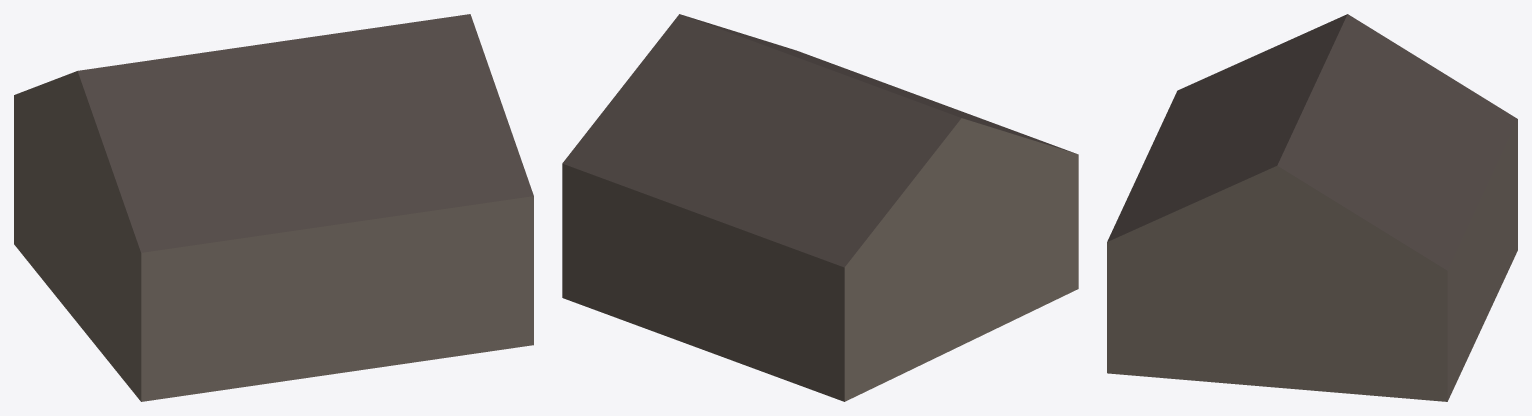
The picture shows the model from 3 angles, left to right: view 1: azimuth 30°, elevation 25°; view 2: azimuth 150°, elevation 25°; view 3: azimuth 270°, elevation 25°; orthographic projection. The views are drawn at different scales.
Parts seen in each view (by area): view 1: HP-w859082542; view 2: HP-w859082542; view 3: HP-w859082542.
Part boxes in pixels (x1,y1,x2,y2): HP-w859082542: (14, 14, 533, 401); HP-w859082542: (562, 14, 1078, 401); HP-w859082542: (1107, 14, 1517, 401).
Size of the model in its own units: 17.67 by 10.15 by 17.03.
